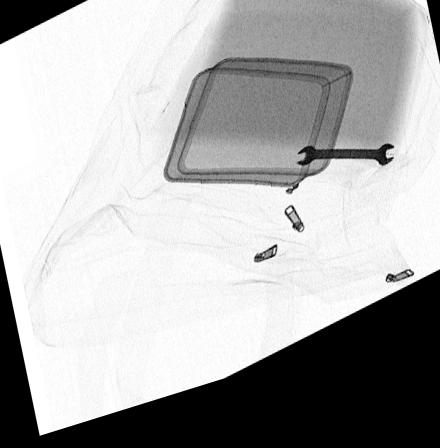Wrench: (292, 164, 396, 190)
